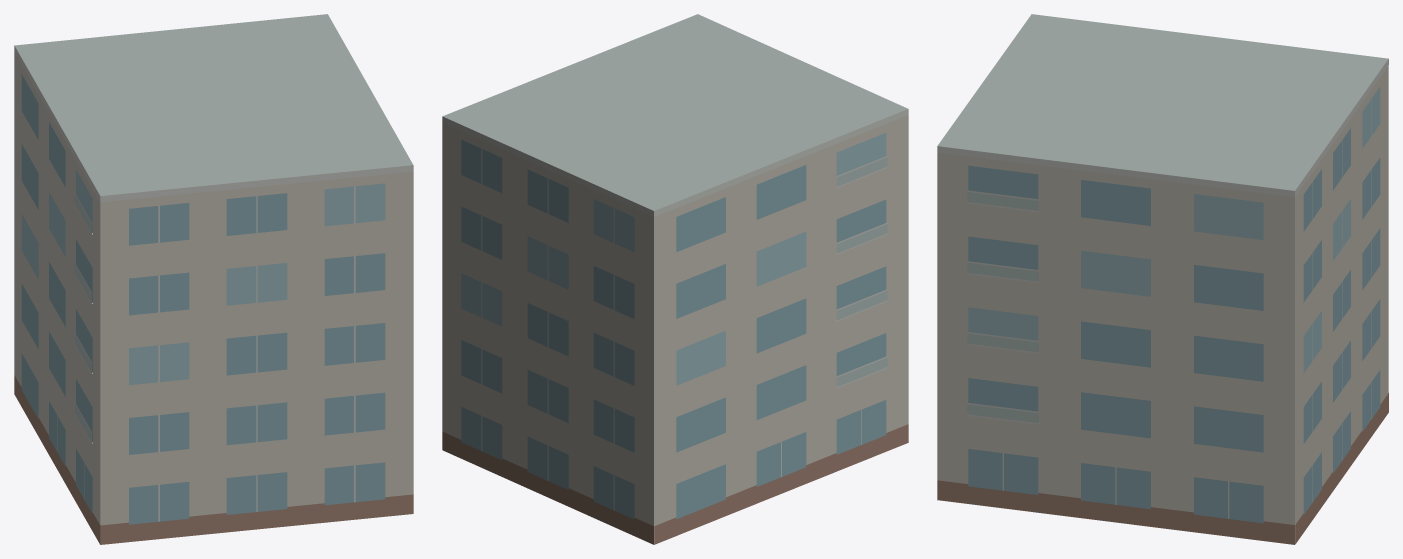
The model's file is survey-upis-32873986.glb.
The picture shows the model from 3 angles, left to right: view 1: azimuth 30°, elevation 25°; view 2: azimuth 150°, elevation 25°; view 3: azimuth 270°, elevation 25°; orthographic projection. The views are drawn at different scales.
Parts seen in each view (by area): view 1: survey-upis-32873986.tmp; view 2: survey-upis-32873986.tmp; view 3: survey-upis-32873986.tmp.
Part boxes in pixels (x1,y1,x2,y2): survey-upis-32873986.tmp: (14,14,413,544); survey-upis-32873986.tmp: (442,14,908,544); survey-upis-32873986.tmp: (937,14,1388,544).
Bounding box in the file's own units: 14.37 × 13.4 × 15.5.
